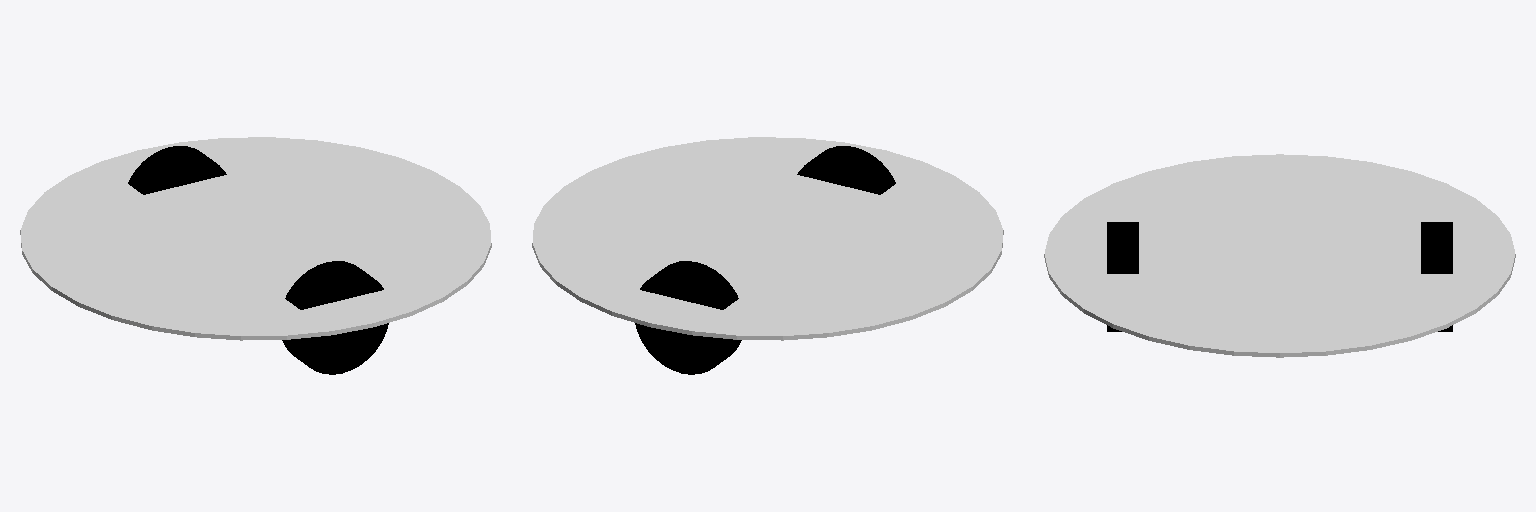
The robot description file, URDF, robot "octagon_bot":
<?xml version="1.0"?>
<robot name="octagon_bot">
  <!-- Materials -->
  <material name="clear">
    <color rgba="0.9 0.9 0.9 0.3"/>
  </material>
  <material name="black">
    <color rgba="0 0 0 1"/>
  </material>

  <!-- Links -->
  <link name="base_footprint"/>

  <link name="base_link">
    <visual>
      <geometry>
        <cylinder radius="0.15" length="0.003"/>
      </geometry>
      <material name="clear"/>
    </visual>
    <collision>
      <geometry>
        <cylinder radius="0.15" length="0.003"/>
      </geometry>
    </collision>
  </link>

  <link name="left_wheel">
    <visual>
      <origin rpy="1.5708 0 0"/>
      <geometry>
        <cylinder radius="0.035" length="0.02"/>
      </geometry>
      <material name="black"/>
    </visual>
    <collision>
      <origin rpy="1.5708 0 0"/>
      <geometry>
        <cylinder radius="0.035" length="0.02"/>
      </geometry>
    </collision>
  </link>

  <link name="right_wheel">
    <visual>
      <origin rpy="1.5708 0 0"/>
      <geometry>
        <cylinder radius="0.035" length="0.02"/>
      </geometry>
      <material name="black"/>
    </visual>
    <collision>
      <origin rpy="1.5708 0 0"/>
      <geometry>
        <cylinder radius="0.035" length="0.02"/>
      </geometry>
    </collision>
  </link>

  <!-- Joints -->
  <joint name="base_footprint_to_base_link" type="fixed">
    <parent link="base_footprint"/>
    <child link="base_link"/>
    <origin xyz="0 0 0.05"/>
  </joint>

  <joint name="base_link_to_left_wheel" type="continuous">
    <parent link="base_link"/>
    <child link="left_wheel"/>
    <origin xyz="0 0.10 -0.015"/>
    <axis xyz="0 1 0"/>
  </joint>

  <joint name="base_link_to_right_wheel" type="continuous">
    <parent link="base_link"/>
    <child link="right_wheel"/>
    <origin xyz="0 -0.10 -0.015"/>
    <axis xyz="0 1 0"/>
  </joint>
</robot>

--- Facts derived from the render (not from the file) ---
The picture shows the robot from 3 angles, left to right: view 1: azimuth 30°, elevation 25°; view 2: azimuth 150°, elevation 25°; view 3: azimuth 270°, elevation 25°; orthographic projection.
Model octagon_bot with 4 links and 3 joints (2 continuous, 1 fixed), rooted at base_footprint, posed all joints at 0.
Links seen in each view (by area): view 1: base_link, right_wheel, left_wheel; view 2: base_link, left_wheel, right_wheel; view 3: base_link, left_wheel, right_wheel.
Link boxes in pixels (box(x1,y1,x2,y2)): base_link: box(20, 137, 491, 340); right_wheel: box(282, 261, 388, 374); left_wheel: box(128, 146, 226, 194); base_link: box(532, 137, 1003, 340); left_wheel: box(635, 261, 741, 374); right_wheel: box(797, 146, 895, 194); base_link: box(1044, 154, 1515, 357); left_wheel: box(1421, 222, 1452, 331); right_wheel: box(1107, 222, 1138, 331).
Size in the robot's own frame: 0.3 by 0.3 by 0.07 metres.
Geometry: primitives only (box / cylinder / sphere), no mesh files.